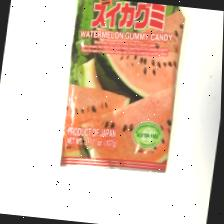plastic: (63, 0, 185, 176)
